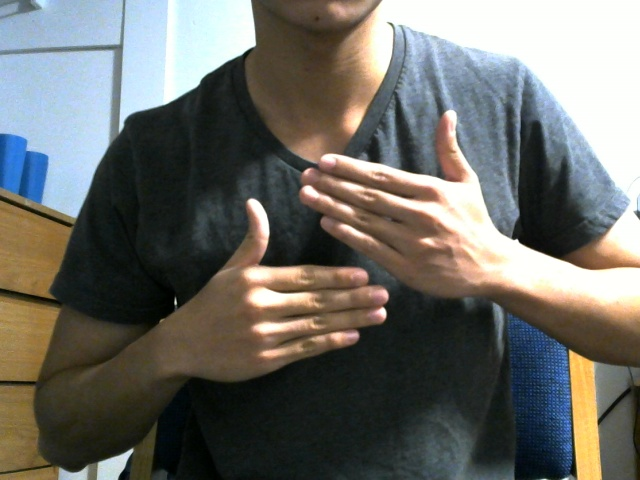Enjoy: (179, 101, 513, 392)
